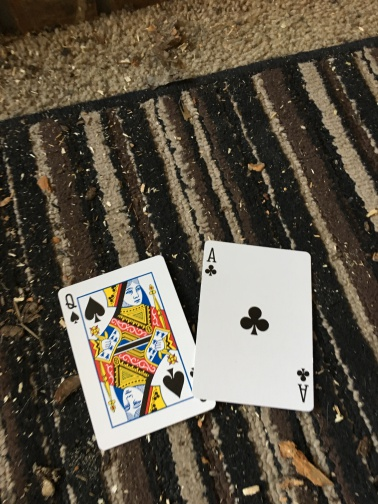ace: (192, 239, 321, 413)
queen: (57, 255, 206, 454)
